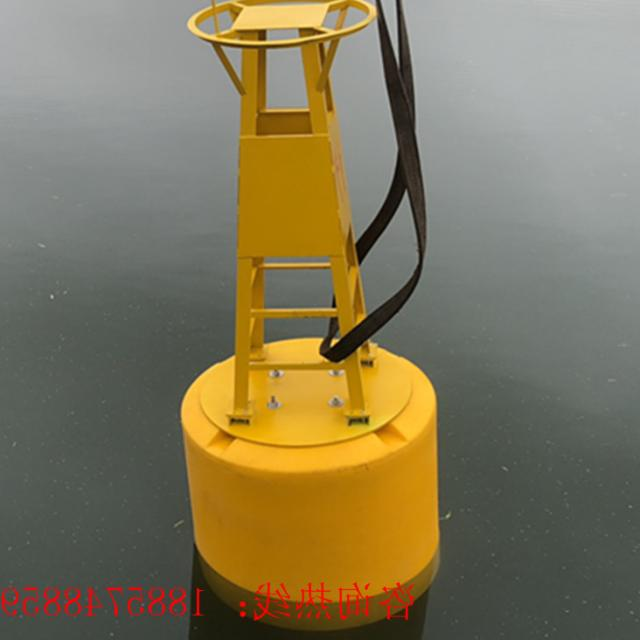buoy: (176, 0, 443, 612)
